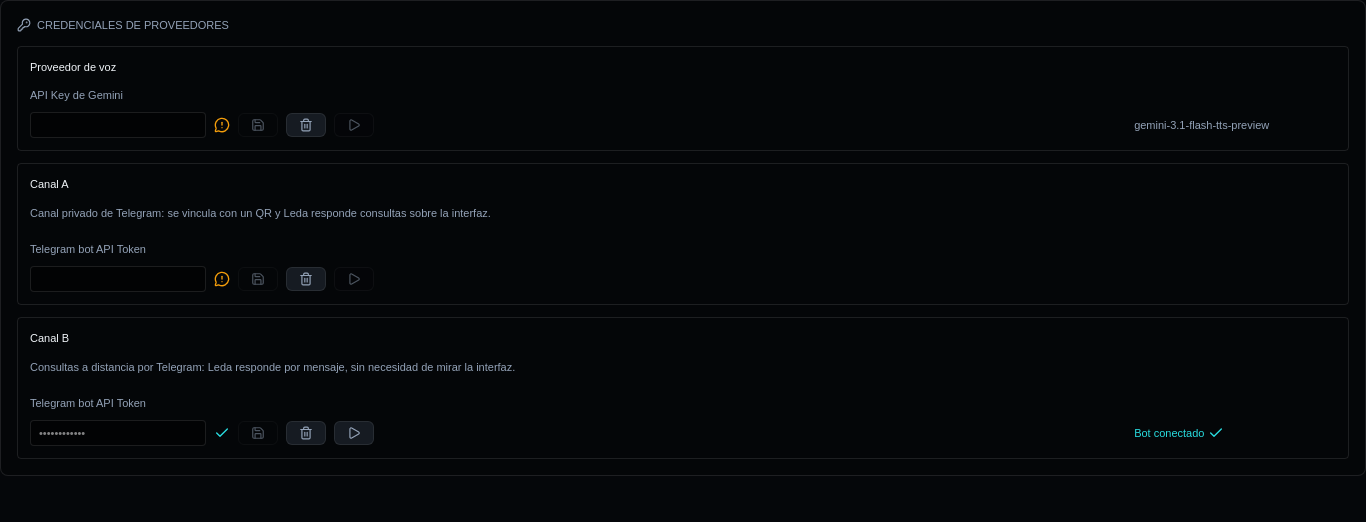
Test: VoiceCredentialSettings › clears the secret and hides unknown backend detail after a failed completed request
Type "synthetic-secret" into the field labelled "API Key de Gemini". click: (118, 125)
box: [30,112,206,138]
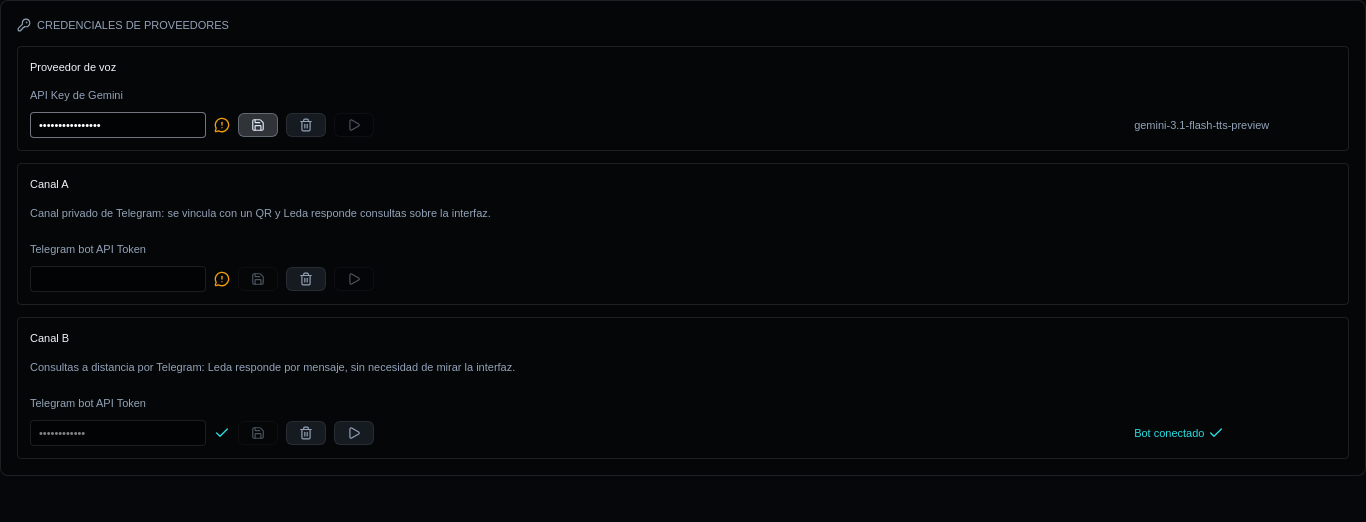
Click the button named "Guardar credencial" in the row of "gemini-3.1-flash-tts-preview". click: (258, 125)
box: [238,113,278,137]
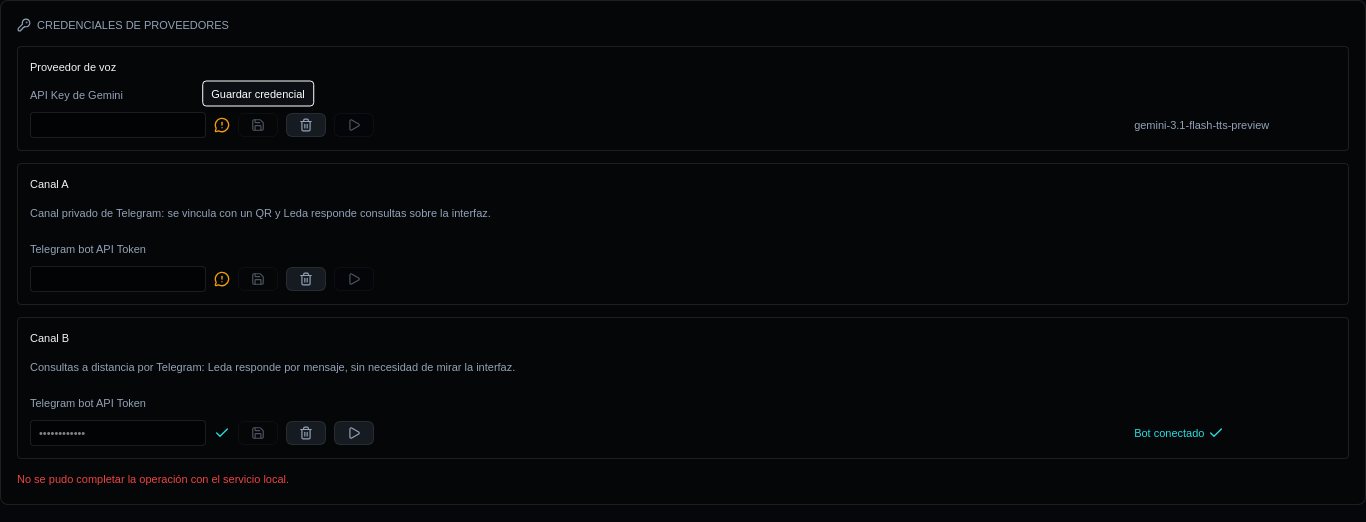
Now the field labelled "API Key de Gemini" is empty, box [30,112,206,138]
Now the message reads "No se pudo completar la operación con el servicio local.", box [17,473,289,485]
